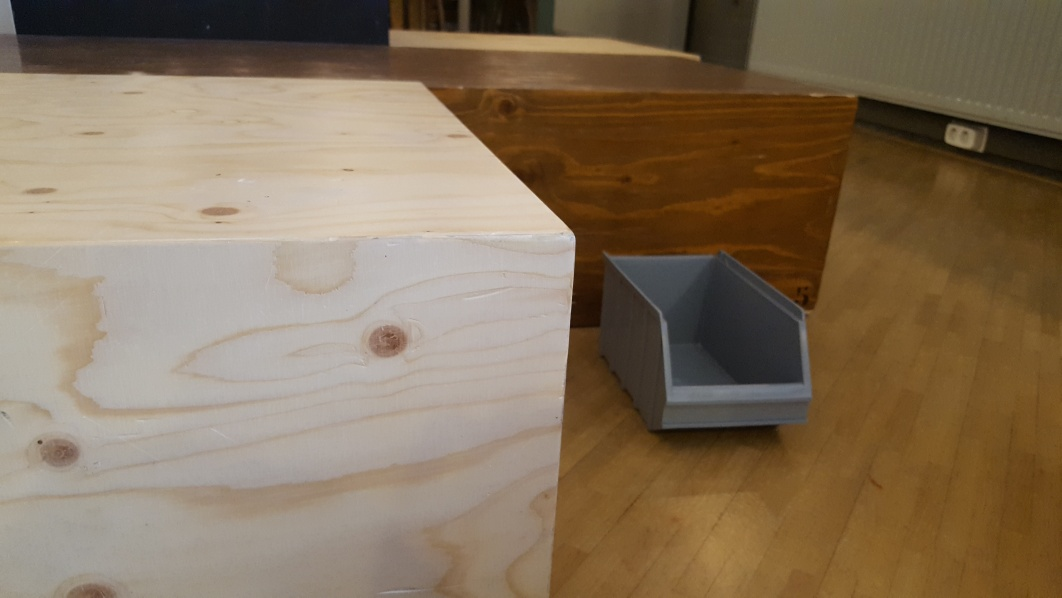tray: (595, 248, 815, 437)
